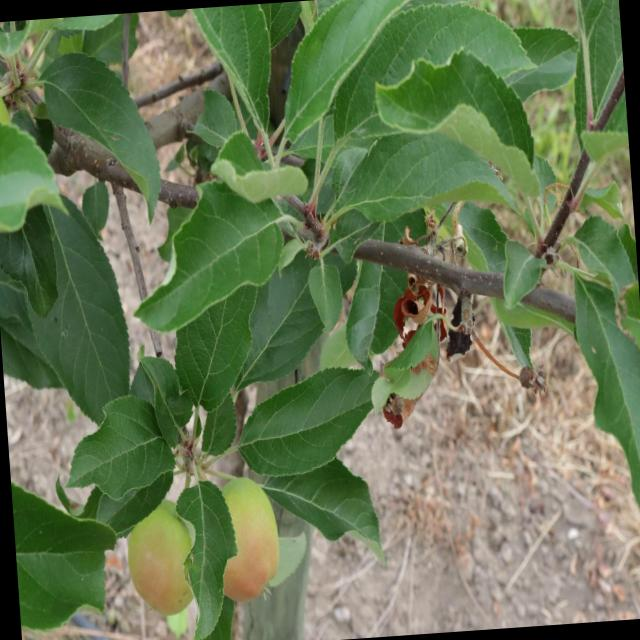-FireBlight-: (403, 265, 443, 325)
